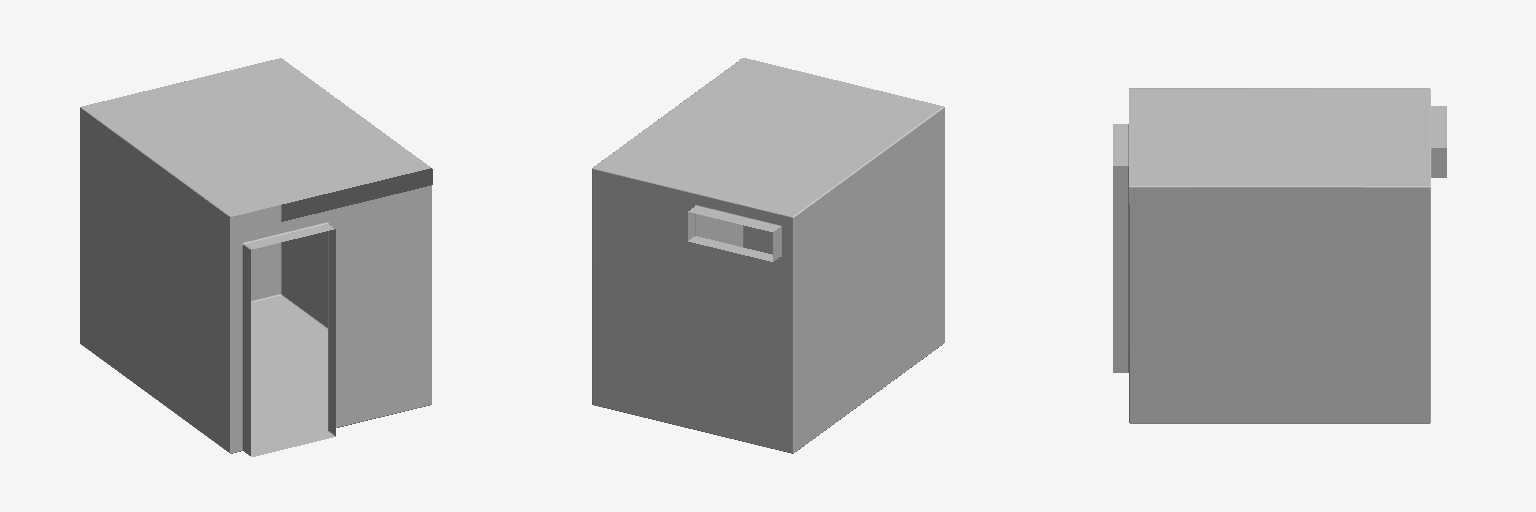
The model's file is Prison_Cell.obj.
3 views of the same model, side by side, from view 1: azimuth 30°, elevation 25°; view 2: azimuth 150°, elevation 25°; view 3: azimuth 270°, elevation 25° (orthographic).
Visible parts, largest first — view 1: object_2; view 2: object_2; view 3: object_2.
Boxes of the visible parts, x1,y1,x2,y2 form: object_2: [80, 58, 432, 456]; object_2: [592, 58, 944, 453]; object_2: [1113, 88, 1446, 423].
Size of the model in its own units: 85.5 by 96.02 by 123.